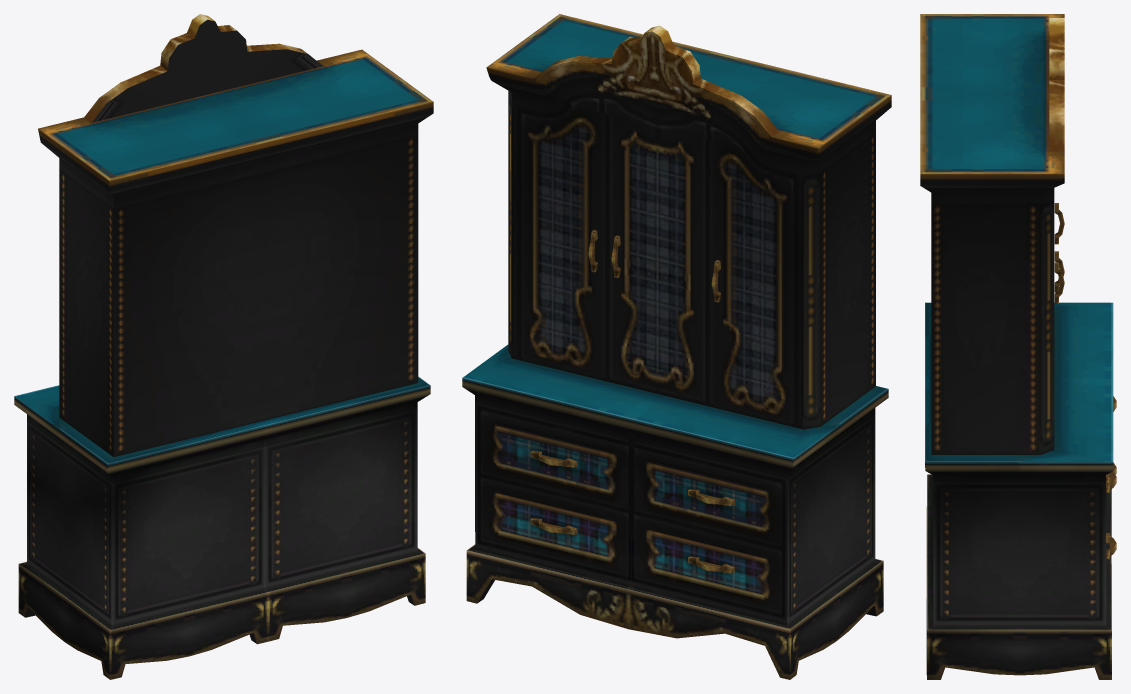
The model's file is furni_0200315_02.FBX.
The picture shows the model from 3 angles, left to right: view 1: azimuth 30°, elevation 25°; view 2: azimuth 150°, elevation 25°; view 3: azimuth 270°, elevation 25°; orthographic projection. The views are drawn at different scales.
Visible parts, largest first — view 1: furni_0200315_02; view 2: furni_0200315_02; view 3: furni_0200315_02.
Part boxes in pixels (<box>): furni_0200315_02: <box>14,14,433,679</box>; furni_0200315_02: <box>462,14,891,679</box>; furni_0200315_02: <box>920,14,1116,679</box>.
Size of the model in its own units: 164 by 279 by 85.12.
Materials: 1 (1 with a texture image).
